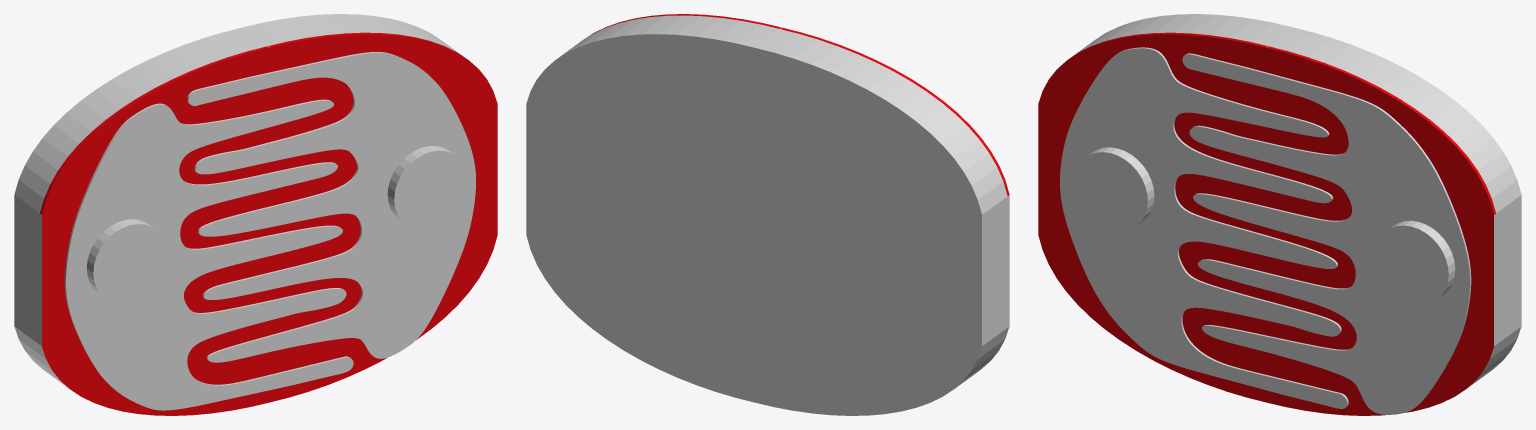
Rendered from tactile.glb.
3 renders of one model, left to right at view 1: azimuth 30°, elevation 25°; view 2: azimuth 150°, elevation 25°; view 3: azimuth 330°, elevation 25°, orthographic.
Parts seen in each view (by area): view 1: LIGHT CATCHER 2, photocell, Cylinder, Cylinder.001; view 2: photocell; view 3: LIGHT CATCHER 2, photocell, Cylinder.001, Cylinder.
Boxes of the visible parts, x1,y1,x2,y2 form: LIGHT CATCHER 2: (64, 52, 475, 410); photocell: (14, 14, 497, 415); Cylinder: (387, 146, 468, 230); Cylinder.001: (86, 219, 167, 303); photocell: (526, 14, 1009, 415); LIGHT CATCHER 2: (1060, 47, 1471, 414); photocell: (1038, 14, 1521, 415); Cylinder.001: (1073, 147, 1154, 231); Cylinder: (1374, 220, 1455, 305).
Bounding box in the file's own units: 0.0382 × 0.0284 × 0.00518.
